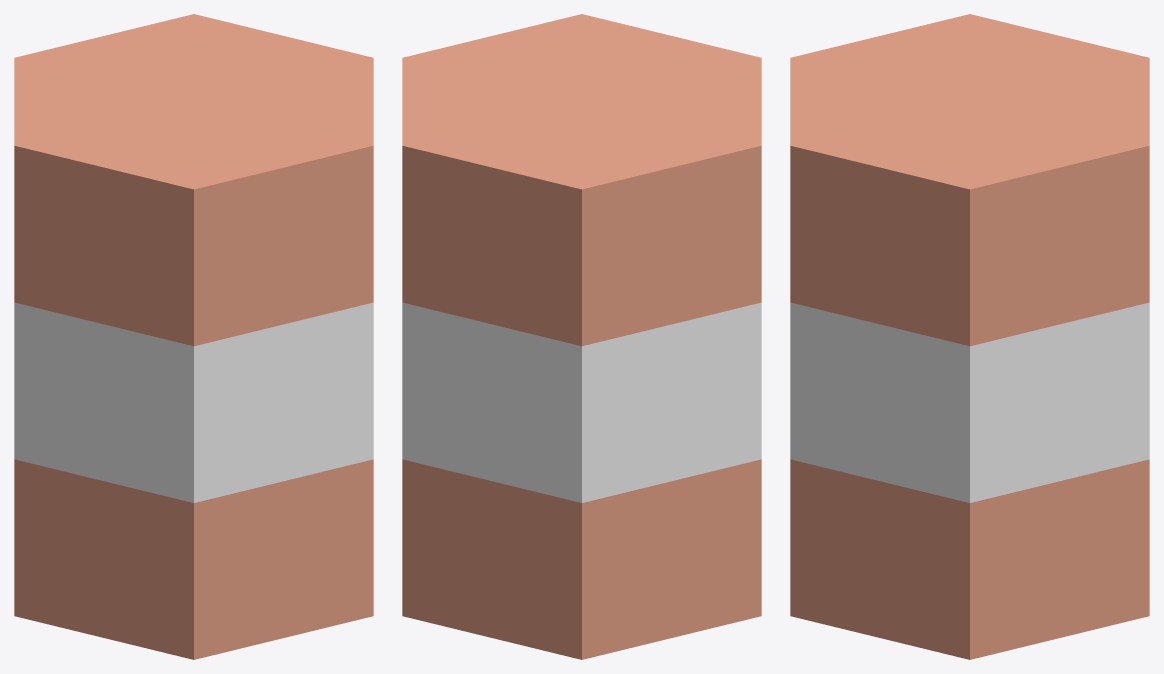
File: barrel.glb
3 renders of one model, left to right at view 1: azimuth 30°, elevation 25°; view 2: azimuth 150°, elevation 25°; view 3: azimuth 270°, elevation 25°, orthographic.
Parts seen in each view (by area): view 1: barrel; view 2: barrel; view 3: barrel.
Boxes of the visible parts, x1,y1,x2,y2 form: barrel: [14, 14, 373, 659]; barrel: [402, 14, 761, 659]; barrel: [790, 14, 1149, 659].
Bounding box in the file's own units: 1.2 × 1.5 × 1.04.
